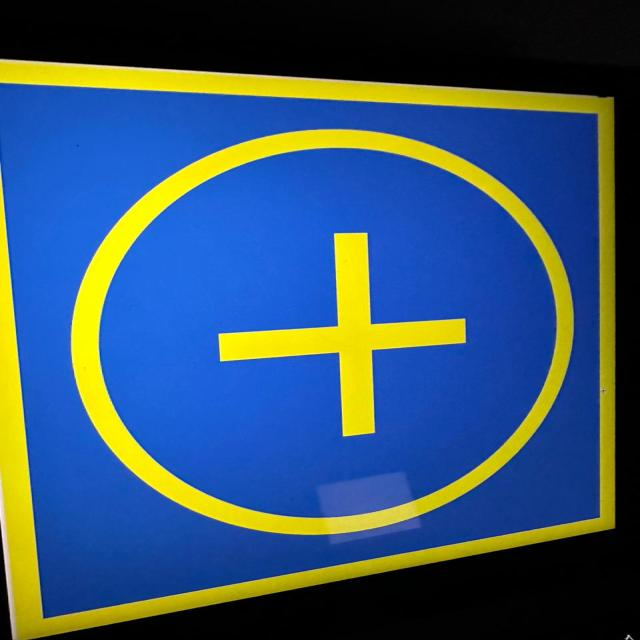Marker: (1, 54, 640, 640)
